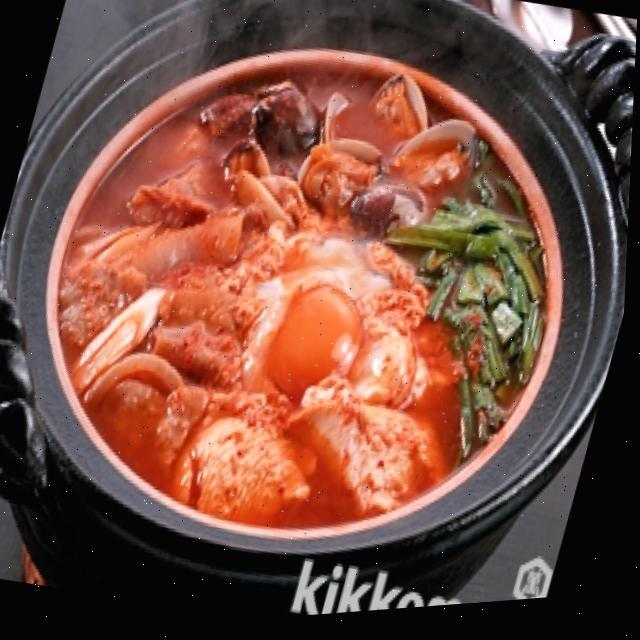熟制海鲜: (31, 0, 327, 298)
